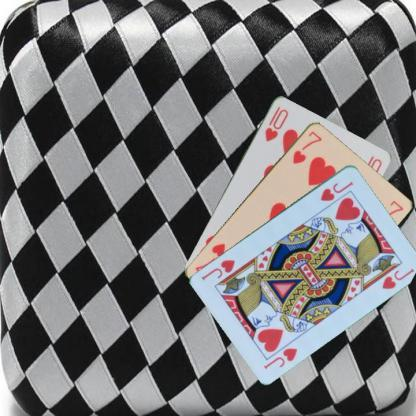10h: (262, 103, 290, 143)
7h: (290, 128, 323, 165)
Jh: (261, 344, 299, 370), (318, 179, 355, 202)
